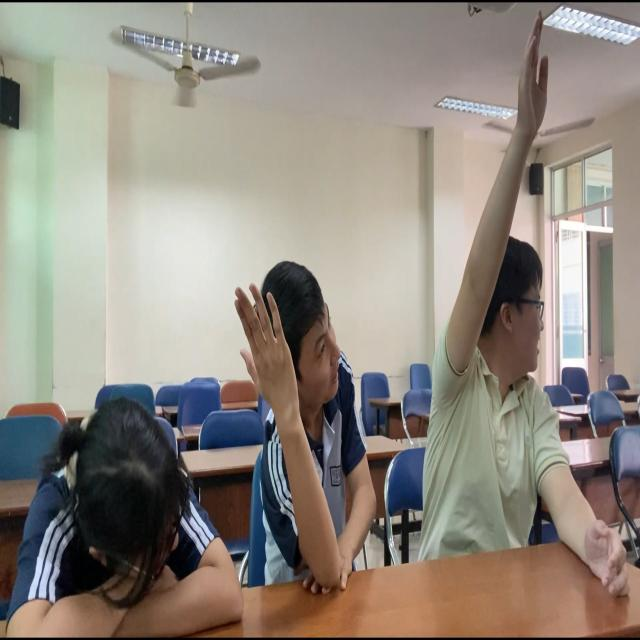raise_hand: (423, 10, 635, 607), (235, 257, 379, 601)
sleep: (5, 399, 243, 634)
